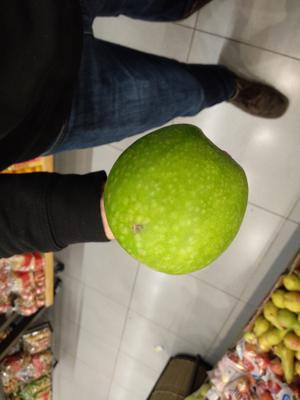apple: (0, 0, 300, 400)
